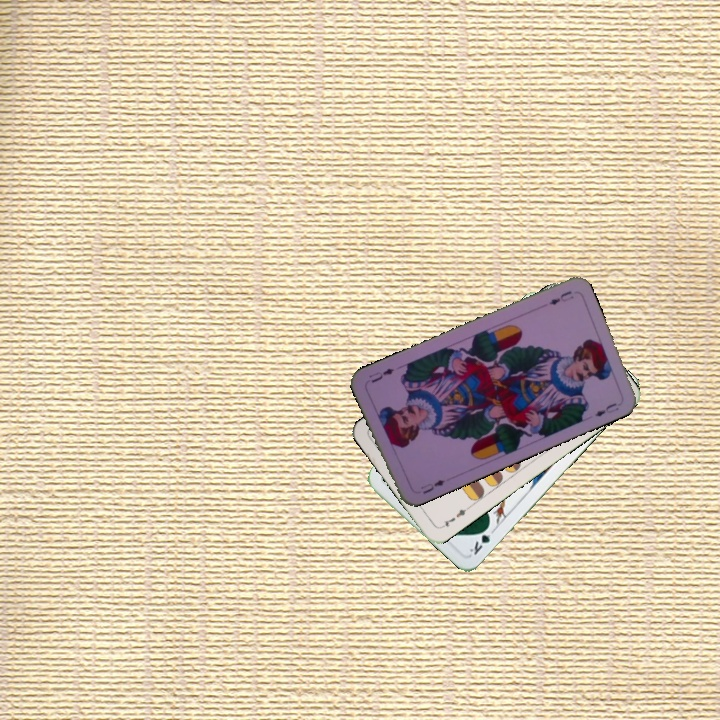E7: (436, 502, 472, 531)
EU: (416, 475, 447, 496), (545, 287, 576, 307)
GK: (465, 521, 498, 558)
